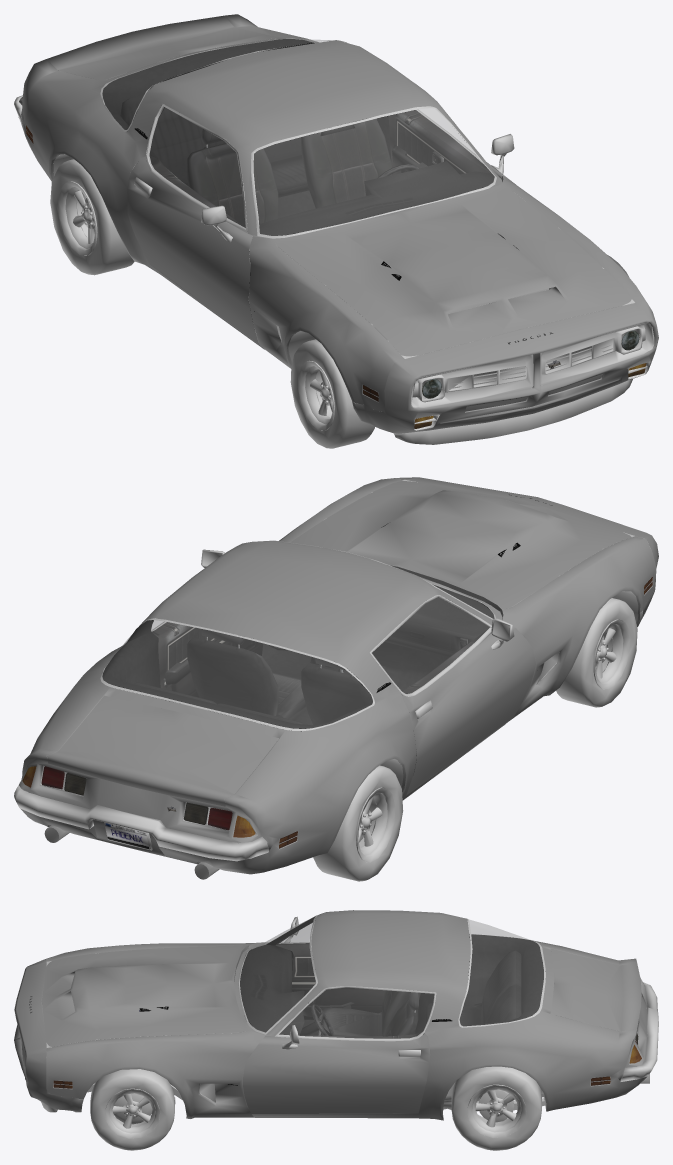
File: Phoenix445_3.fbx
The picture shows the model from 3 angles, top to bottom: view 1: azimuth 30°, elevation 25°; view 2: azimuth 150°, elevation 25°; view 3: azimuth 270°, elevation 25°; orthographic projection. The views are drawn at different scales.
Visible parts, largest first — view 1: Hood; view 2: Hood; view 3: Hood.
Boxes of the visible parts, <box> form: Hood: <box>14,14,658,448</box>; Hood: <box>14,477,658,881</box>; Hood: <box>14,910,658,1150</box>.
Size of the model in its own units: 208 by 133 by 489.
